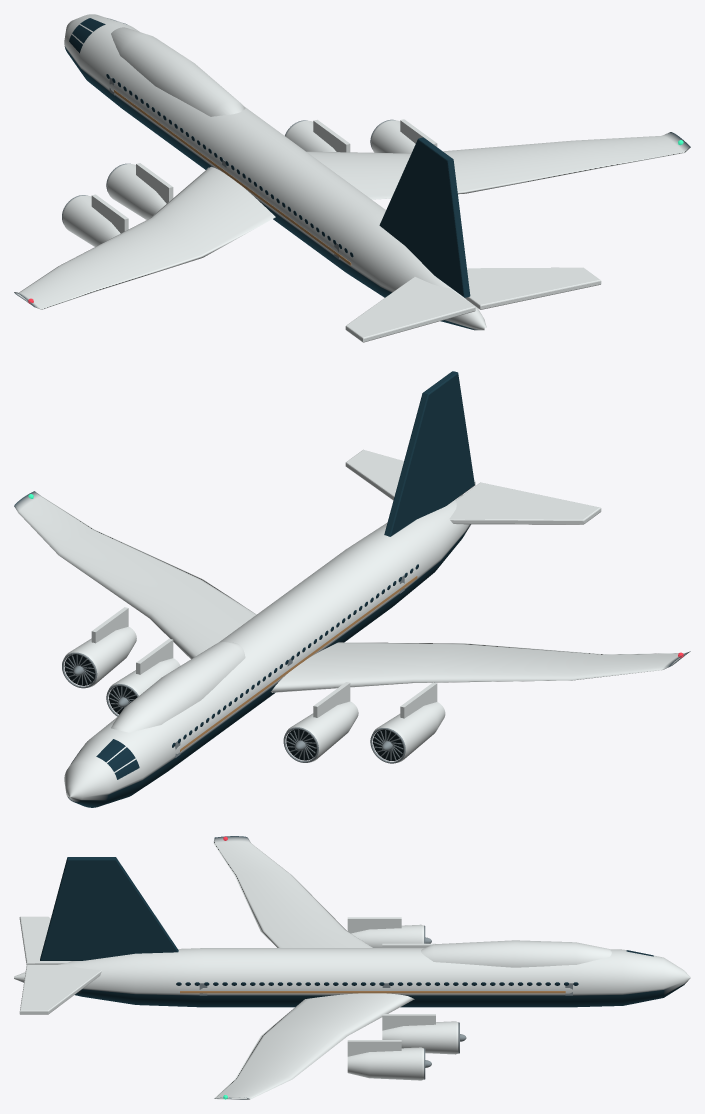
3 views of the same model, one above another, from view 1: azimuth 30°, elevation 25°; view 2: azimuth 150°, elevation 25°; view 3: azimuth 270°, elevation 25° (orthographic). The views are drawn at different scales.
Size of the model in its own units: 64.44 by 18.27 by 70.66.
